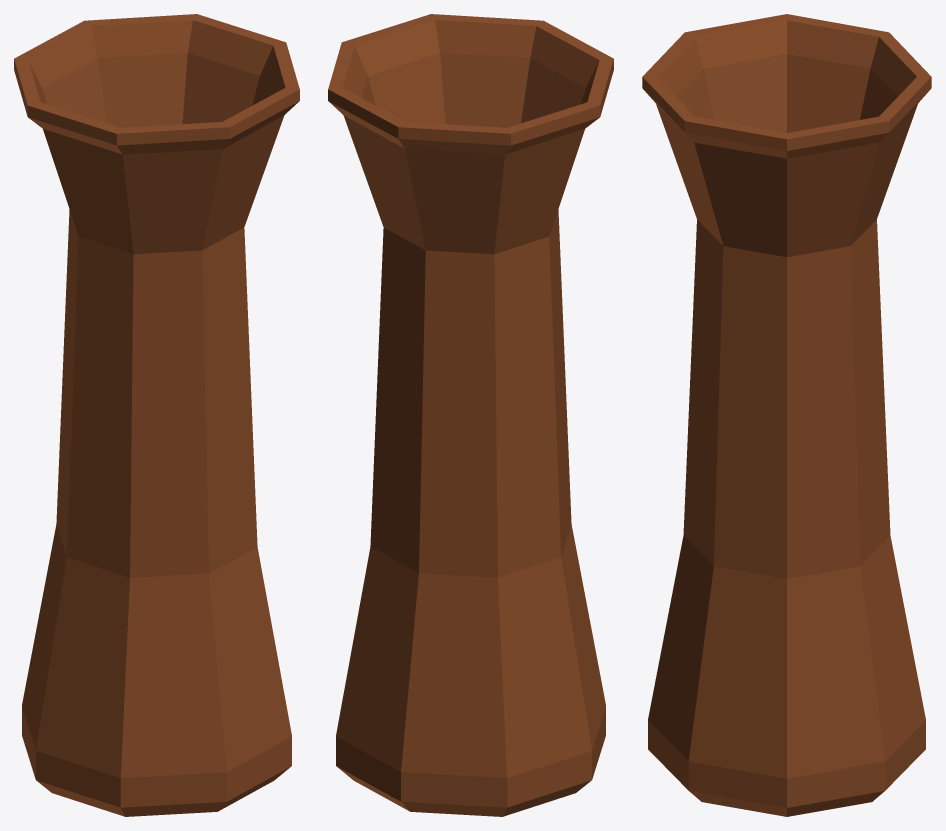
Rendered from Collin_Vase_004.fbx.
3 renders of one model, left to right at view 1: azimuth 30°, elevation 25°; view 2: azimuth 150°, elevation 25°; view 3: azimuth 270°, elevation 25°, orthographic.
Parts seen in each view (by area): view 1: Vase_002; view 2: Vase_002; view 3: Vase_002.
Boxes of the visible parts, x1=… form: Vase_002: x1=14, y1=14, x2=299, y2=816; Vase_002: x1=328, y1=14, x2=613, y2=816; Vase_002: x1=642, y1=14, x2=931, y2=816.
Bounding box in the file's own units: 18.15 × 46.53 × 17.69.
1 material, 1 textured.
